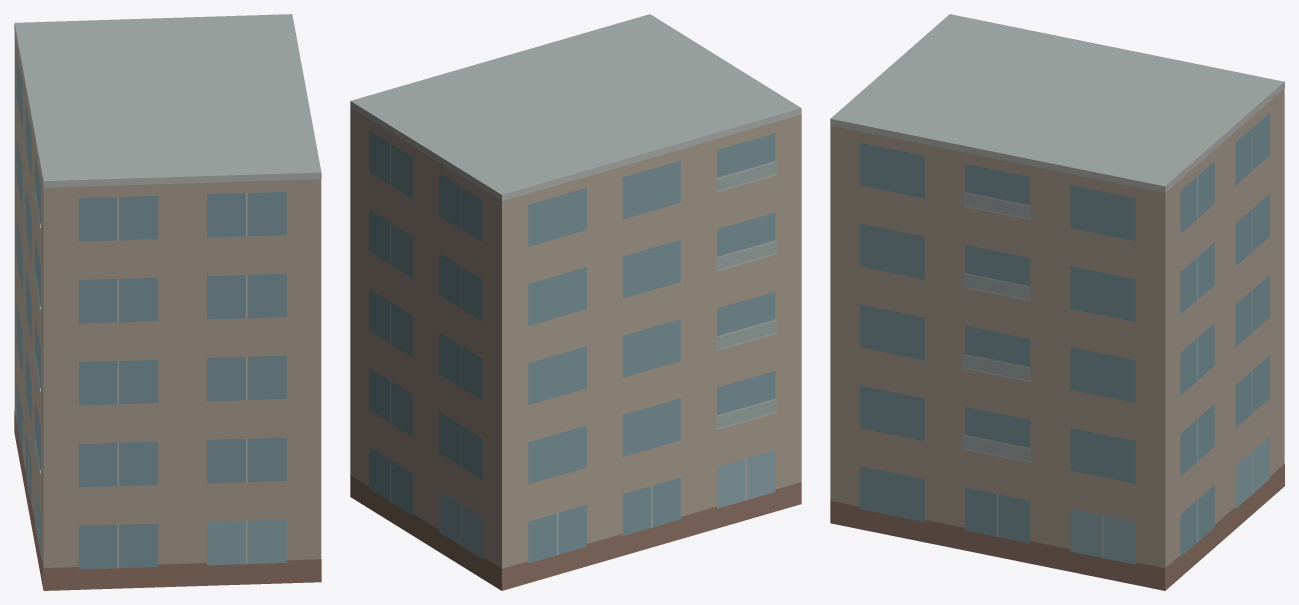
The model's file is survey-upis-32607148.glb.
3 renders of one model, left to right at view 1: azimuth 30°, elevation 25°; view 2: azimuth 150°, elevation 25°; view 3: azimuth 270°, elevation 25°, orthographic. The views are drawn at different scales.
Parts seen in each view (by area): view 1: survey-upis-32607148.tmp; view 2: survey-upis-32607148.tmp; view 3: survey-upis-32607148.tmp.
Boxes of the visible parts, x1=… form: survey-upis-32607148.tmp: x1=14, y1=14, x2=321, y2=590; survey-upis-32607148.tmp: x1=350, y1=14, x2=801, y2=590; survey-upis-32607148.tmp: x1=830, y1=14, x2=1284, y2=590.
Bounding box in the file's own units: 13.72 × 15 × 15.28.
